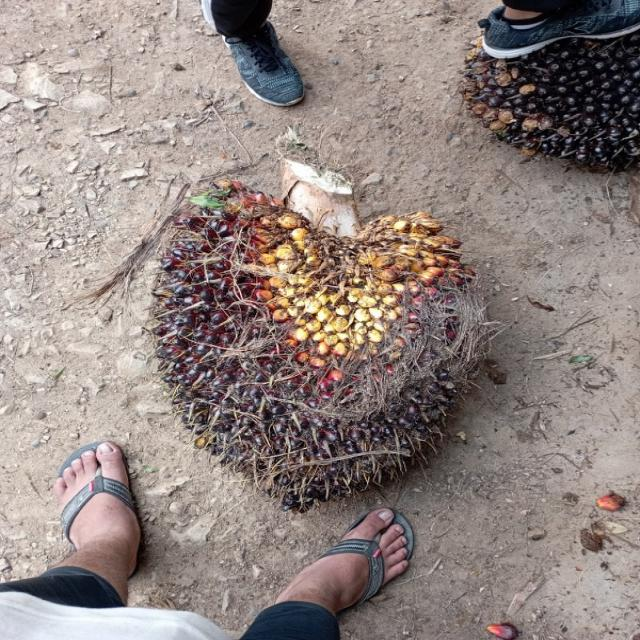fraksi 00: (138, 173, 482, 516)
